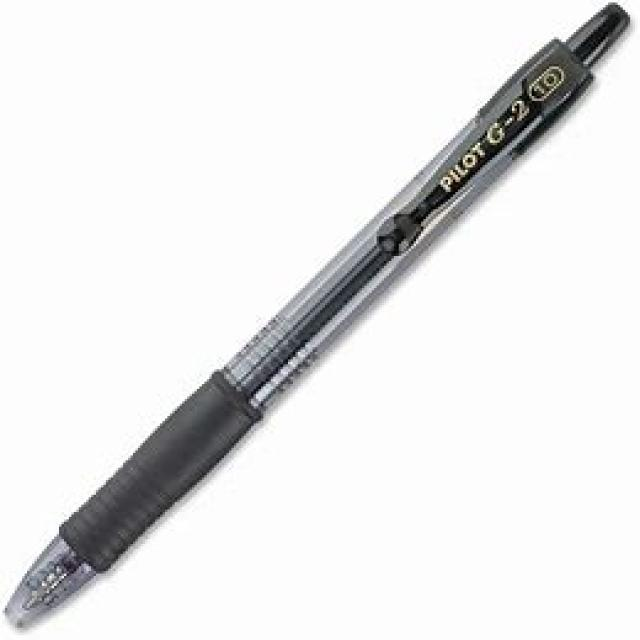pen: (2, 0, 632, 633)
